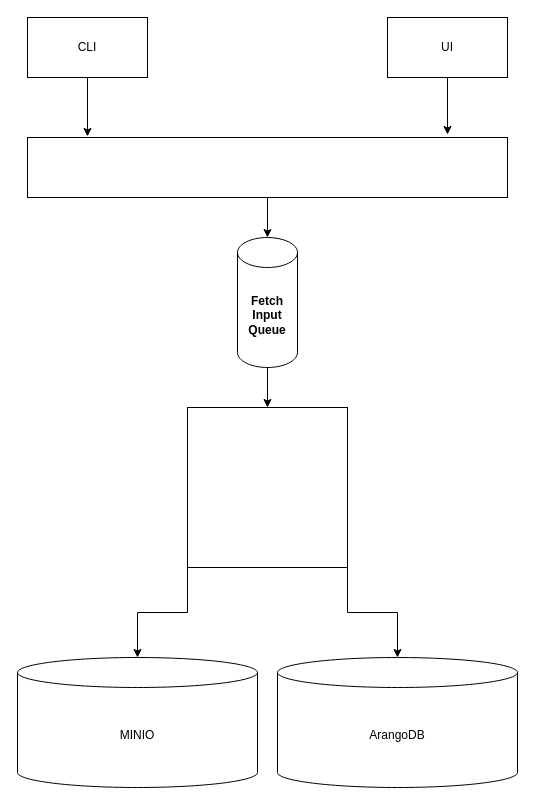
The diagram is 535 pixels wide and 805 high, and some of its shapes have lost their labels. The shapes that lost their labels are listed below. From the top down, each one's centre as x and y in pixels, then its label:
point (267, 167): API
point (267, 487): Fetcher Service
